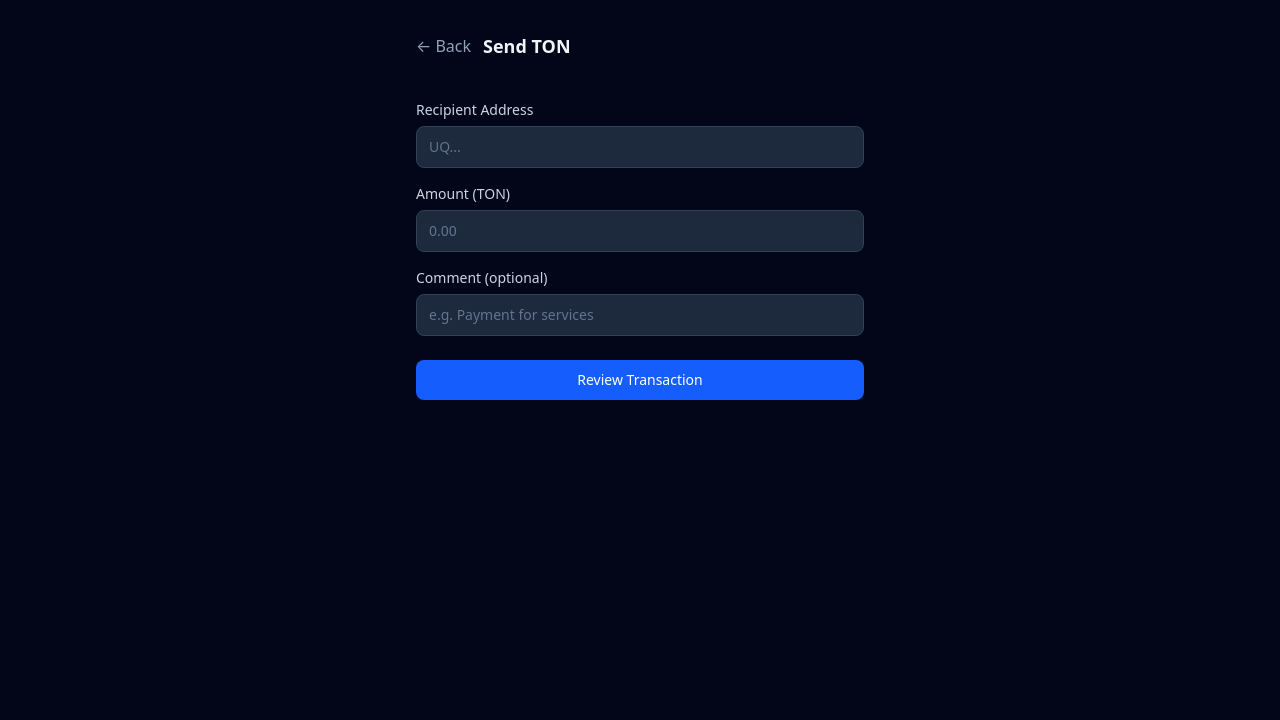
Test: SendPage › opens the confirm modal with a neutral style for a safe address
Type "UQBvI0aFLnw2QbZgjMPCLRdtRHxhUyinQudg6sdiohIwg5jL" into the field with placeholder "UQ..." at (640, 147), box [416,126,864,168]
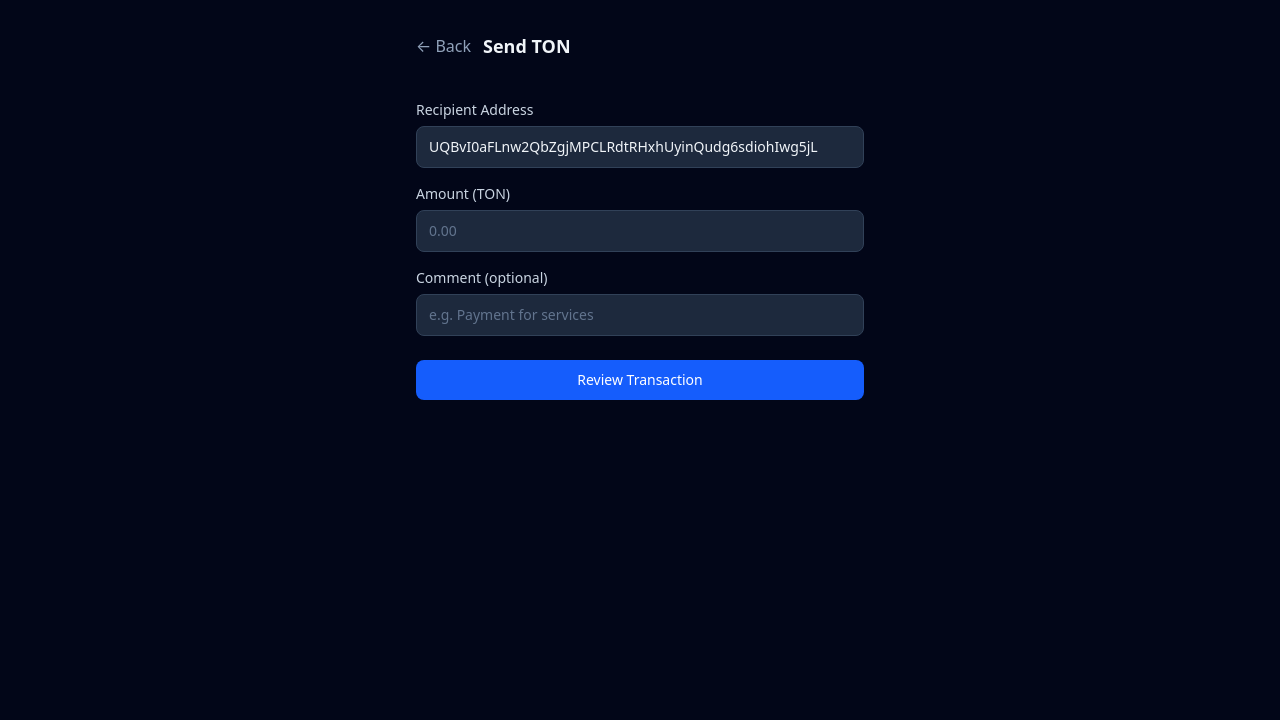
Type "1" into the number field with placeholder "0.00" at (640, 231), box [416,210,864,252]
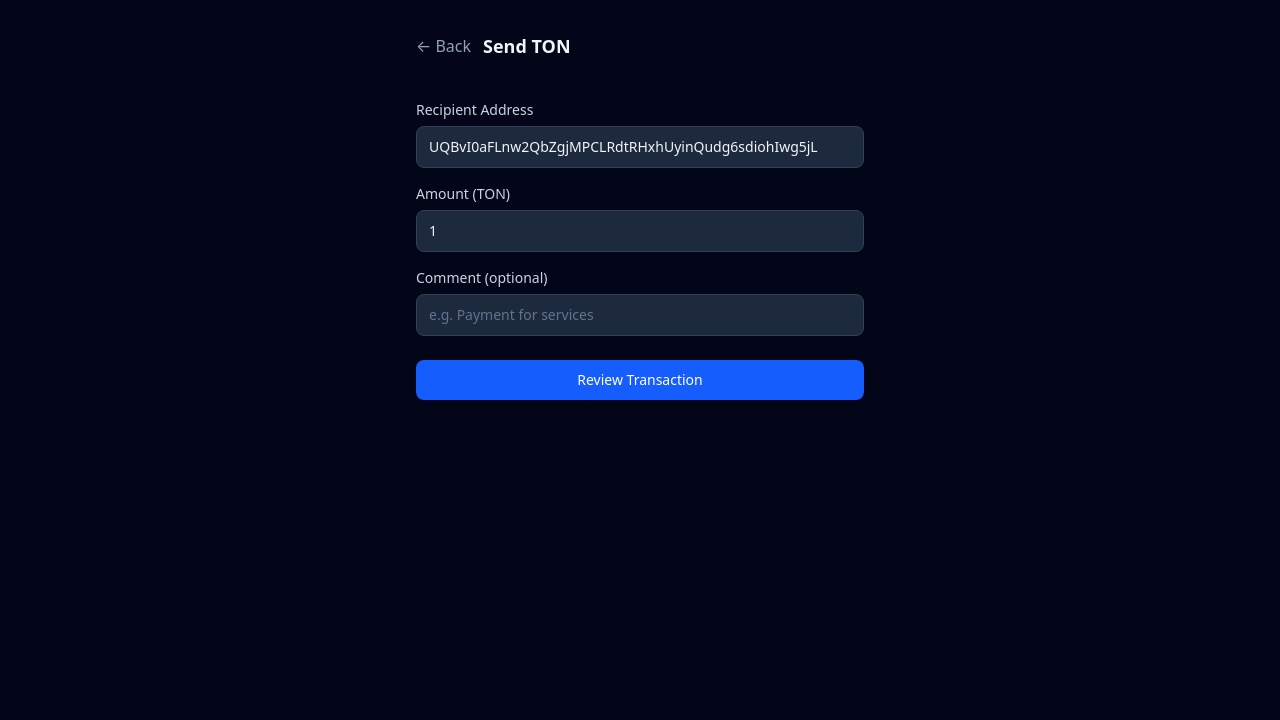
Click the button "Review Transaction" at (640, 380), box [416,360,864,400]
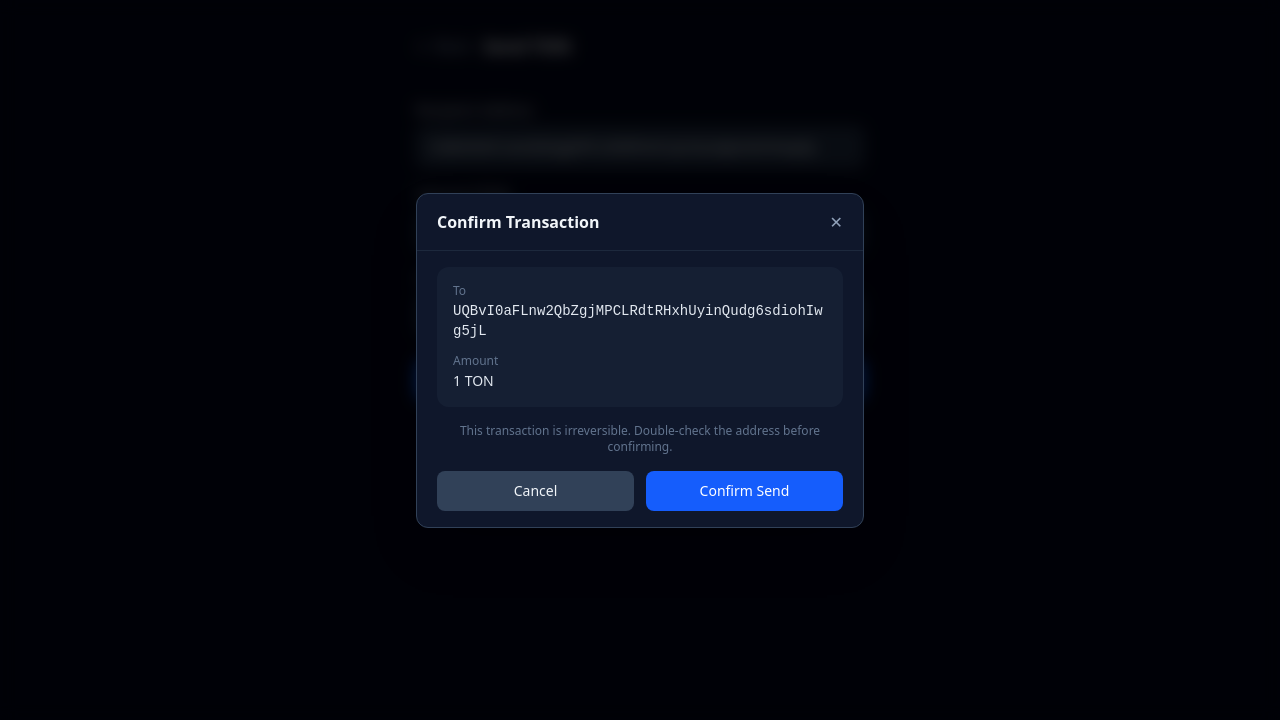
Check: the heading "Confirm Transaction" is shown, box [437,210,600,234]
